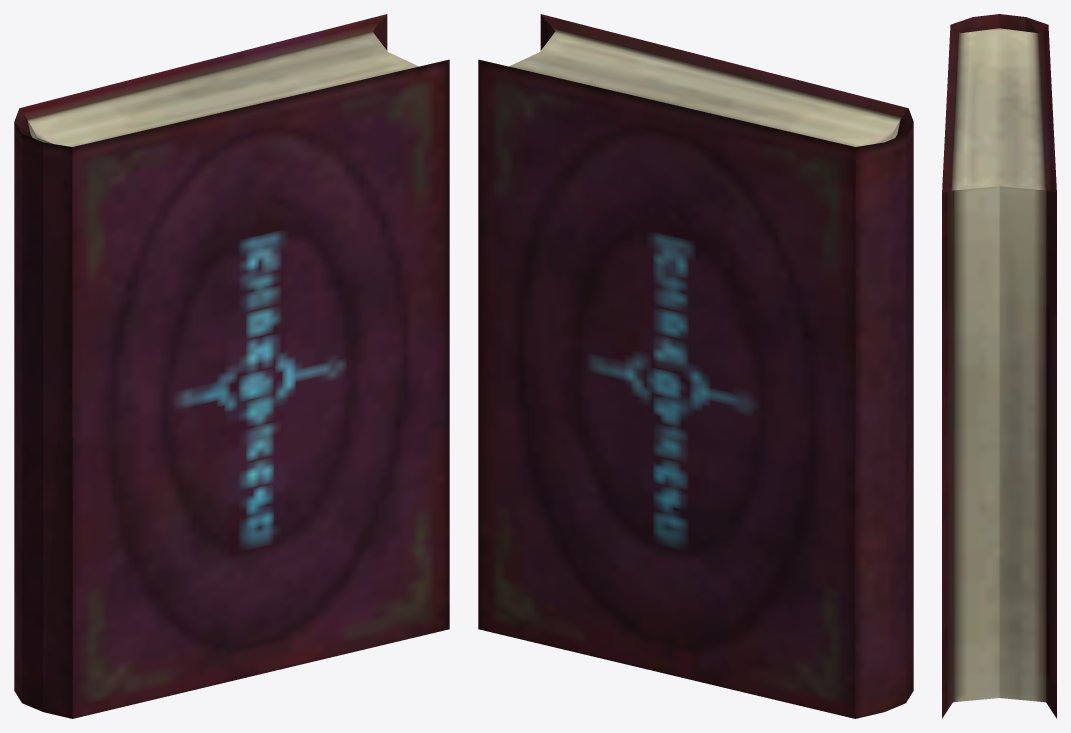
File: Sheep_clericBook.obj
The picture shows the model from 3 angles, left to right: view 1: azimuth 30°, elevation 25°; view 2: azimuth 150°, elevation 25°; view 3: azimuth 270°, elevation 25°; orthographic projection. The views are drawn at different scales.
Parts seen in each view (by area): view 1: Sheep_clericBook_tri; view 2: Sheep_clericBook_tri; view 3: Sheep_clericBook_tri.
Boxes of the visible parts, x1=… form: Sheep_clericBook_tri: x1=14, y1=14, x2=449, y2=718; Sheep_clericBook_tri: x1=478, y1=14, x2=913, y2=718; Sheep_clericBook_tri: x1=942, y1=14, x2=1056, y2=718.
Bounding box in the file's own units: 0.2703 × 0.3713 × 0.0735.
1 material, 1 textured.
